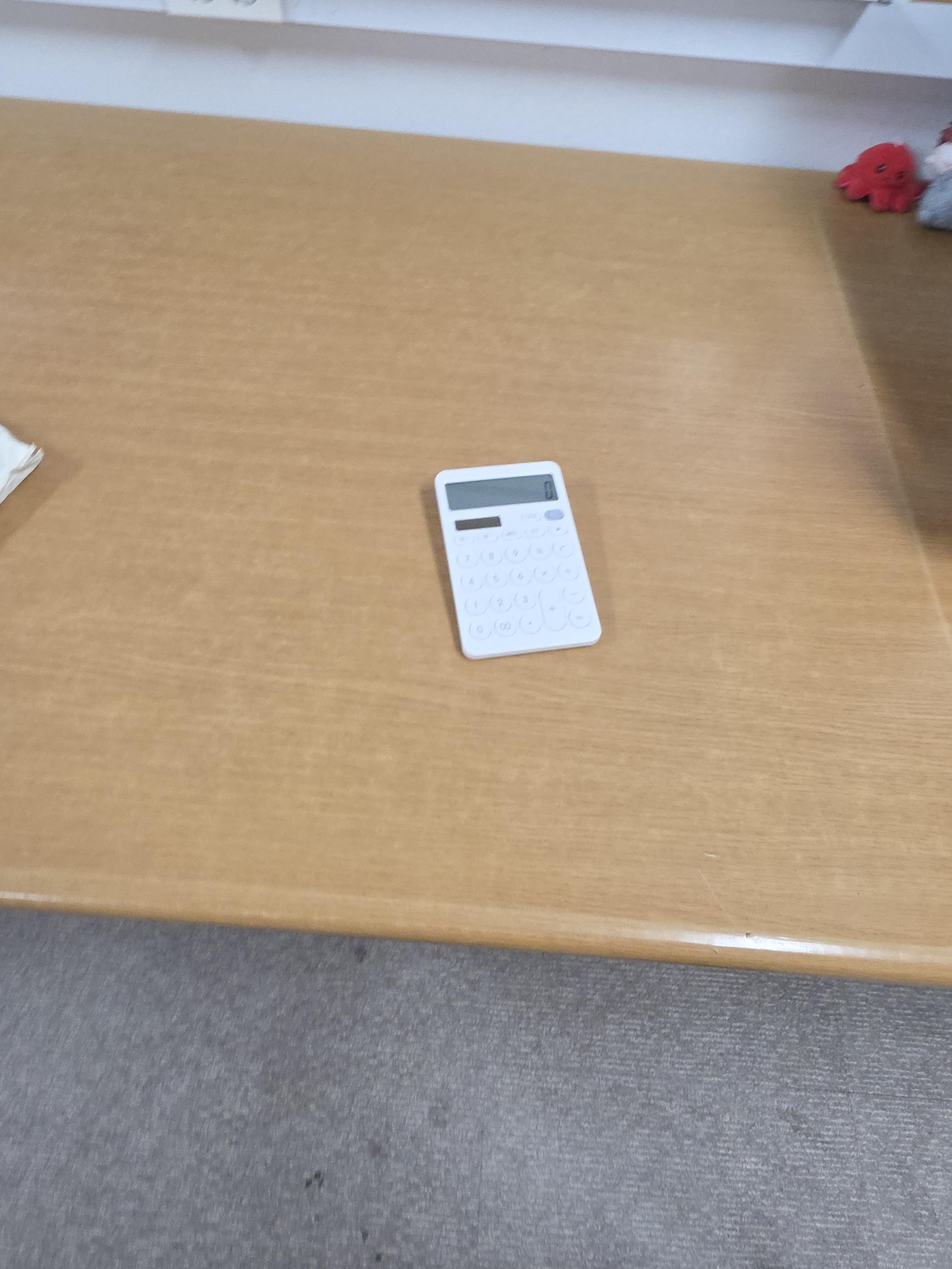calculator: (434, 460, 602, 660)
tissue: (0, 424, 44, 504)
